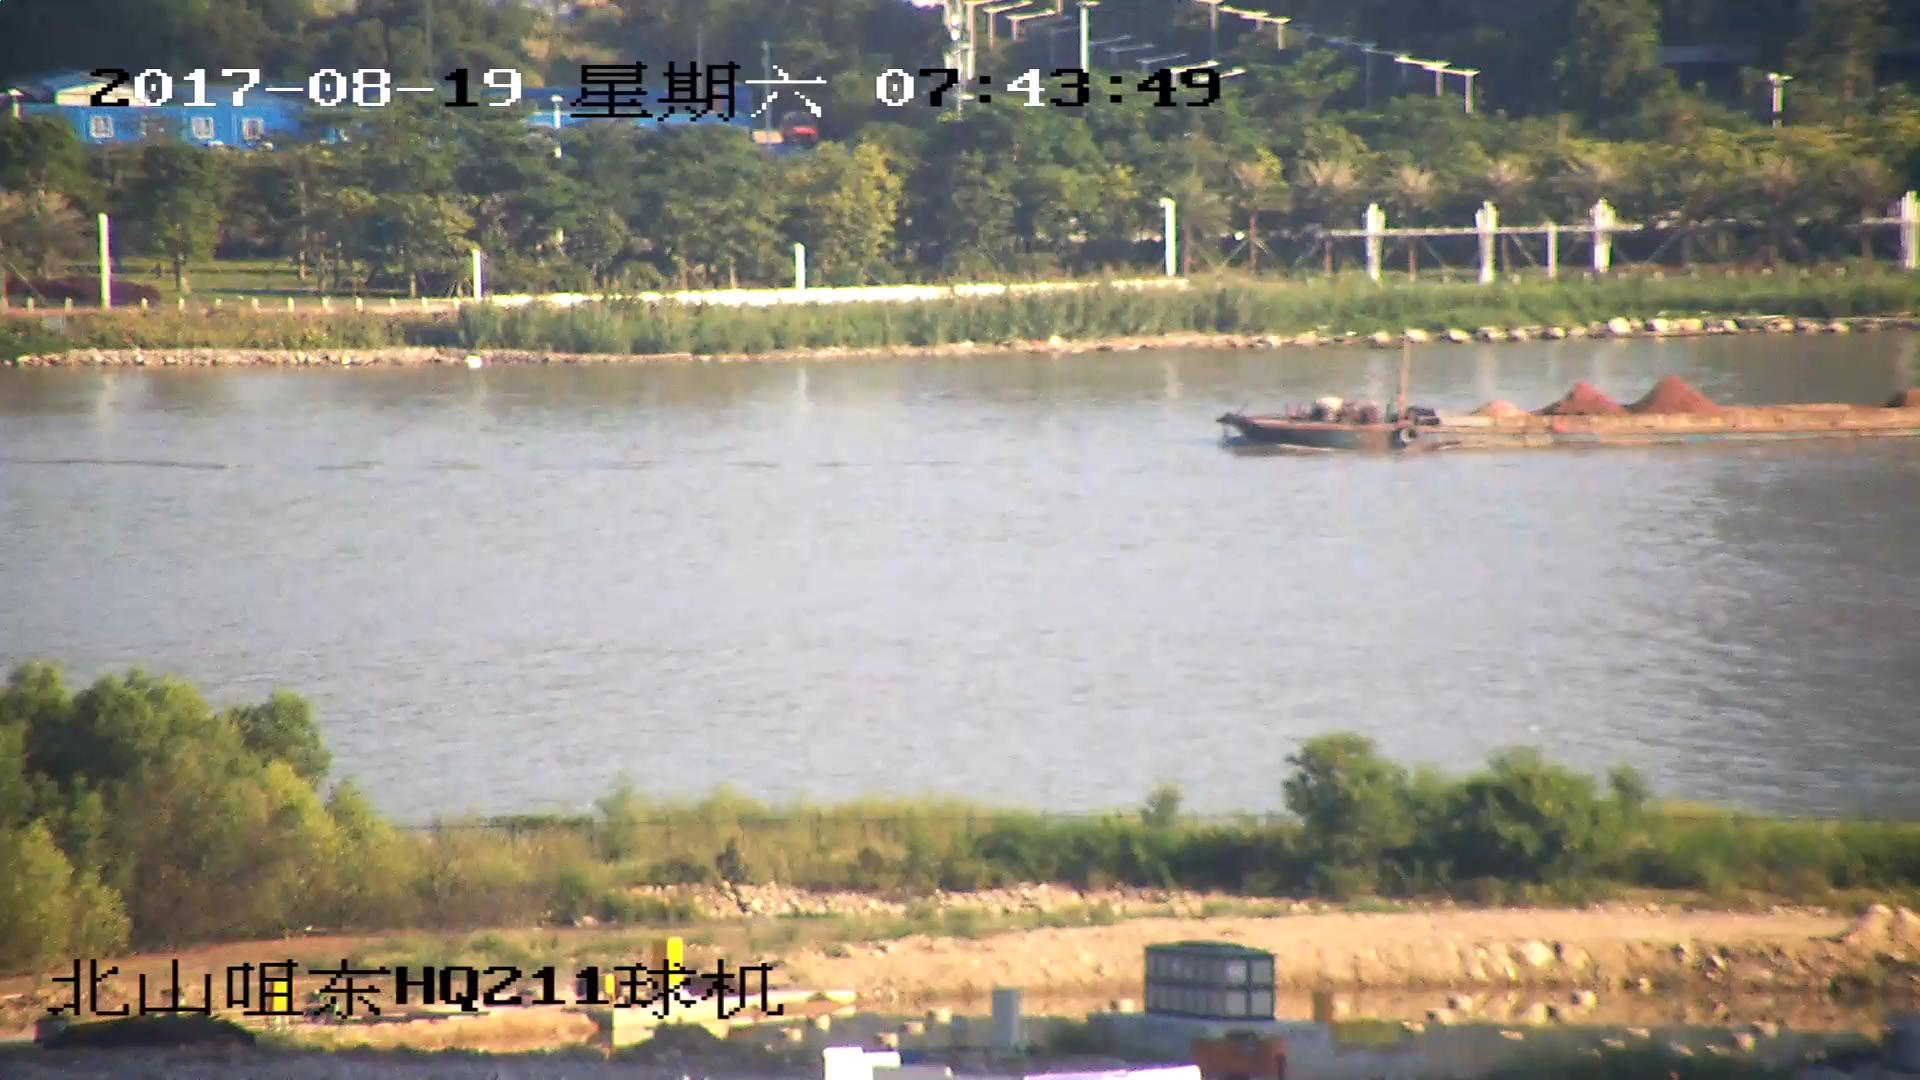ore carrier: (1216, 349, 1920, 460)
